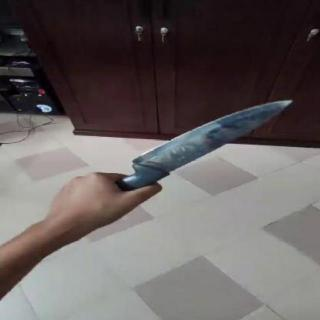knife: (93, 90, 310, 187)
